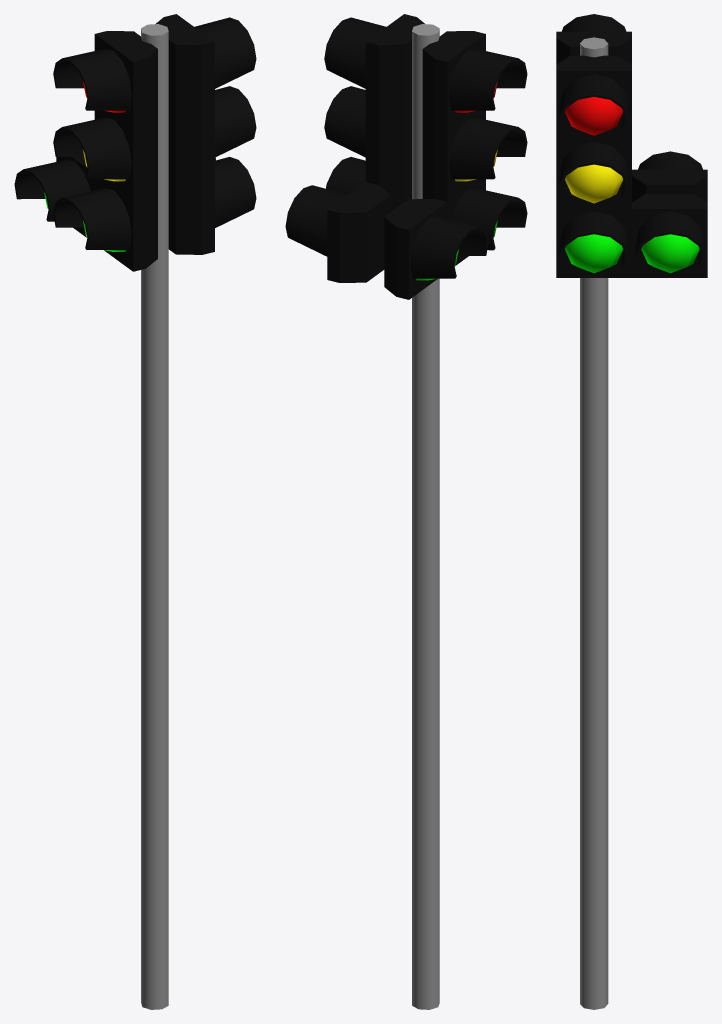
The model's file is SM_TrafficLight.FBX.
3 views of the same model, side by side, from view 1: azimuth 30°, elevation 25°; view 2: azimuth 150°, elevation 25°; view 3: azimuth 270°, elevation 25° (orthographic).
Visible parts, largest first — view 1: model_KLB_TraficLight_v01_000; view 2: model_KLB_TraficLight_v01_000; view 3: model_KLB_TraficLight_v01_000.
Part boxes in pixels (x1,y1,x2,y2): model_KLB_TraficLight_v01_000: (14,14,256,1009); model_KLB_TraficLight_v01_000: (285,14,527,1009); model_KLB_TraficLight_v01_000: (556,14,707,1009).
Bounding box in the file's own units: 1.15 × 6.4 × 0.9148.
